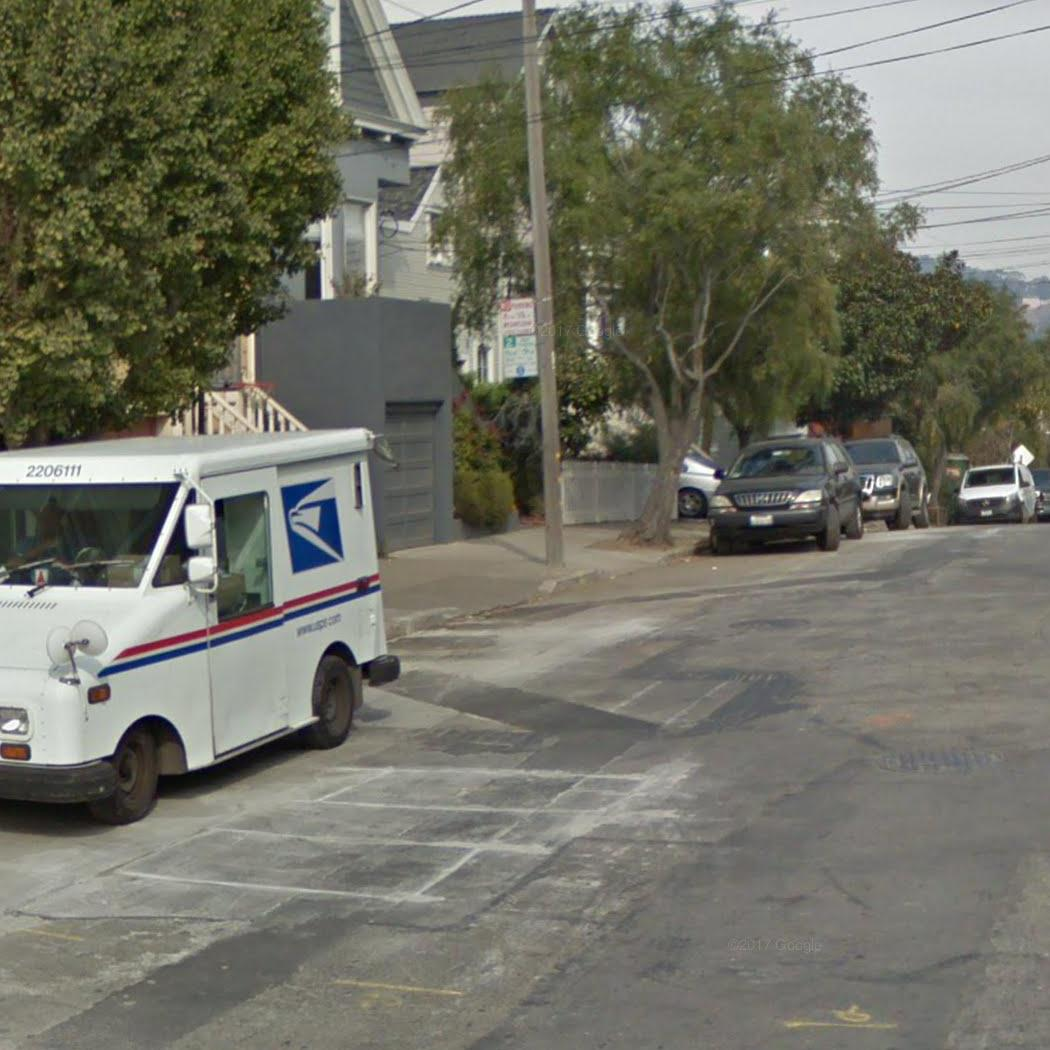2 Hour Parking: (500, 336, 540, 379)
No Parking: (495, 296, 537, 338)
